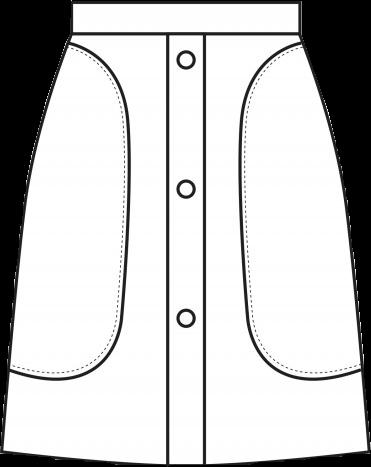Hemline: (0, 446, 370, 466)
Waistline: (71, 29, 299, 37), (70, 0, 299, 7)
